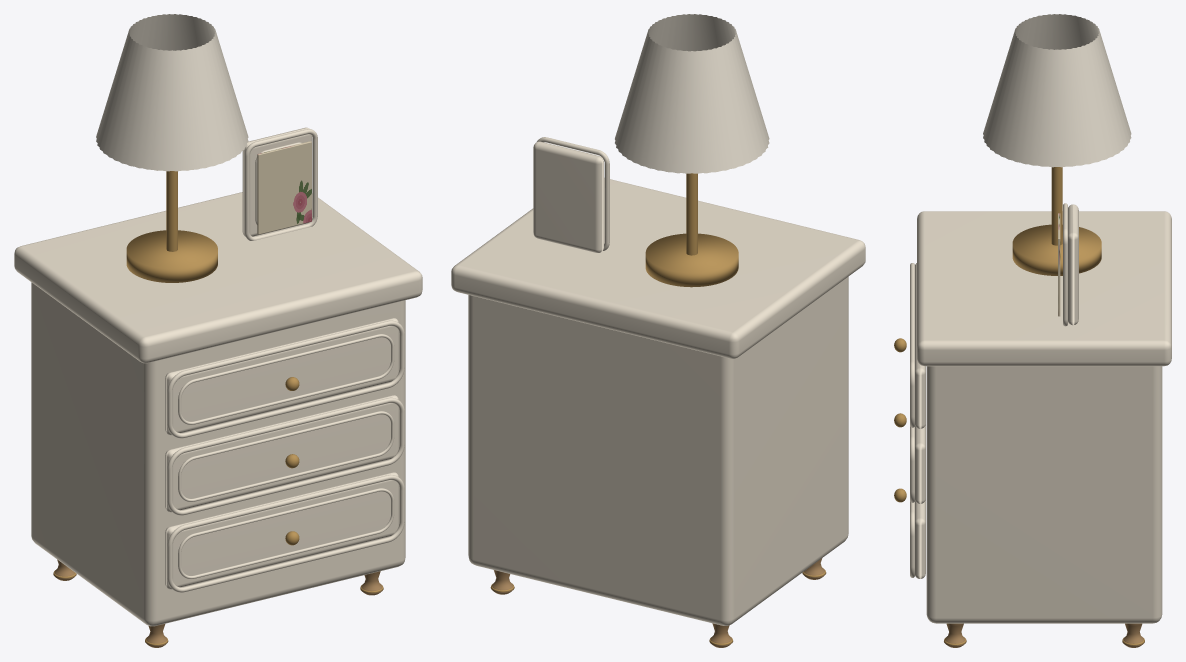
Rendered from bedside.glb.
3 renders of one model, left to right at view 1: azimuth 30°, elevation 25°; view 2: azimuth 150°, elevation 25°; view 3: azimuth 270°, elevation 25°, orthographic. The views are drawn at different scales.
Visible parts, largest first — view 1: bedside__Warm aged ivory lacquer, bedside__Natural cream linen, bedside__Antique brass, bedside__Rose botanical print on linen, bedside__Honey ash exposed edges; view 2: bedside__Warm aged ivory lacquer, bedside__Natural cream linen, bedside__Antique brass, bedside__Honey ash exposed edges; view 3: bedside__Warm aged ivory lacquer, bedside__Natural cream linen, bedside__Antique brass, bedside__Honey ash exposed edges.
Boxes of the visible parts, x1,y1,x2,y2 form: bedside__Warm aged ivory lacquer: (14, 127, 422, 626); bedside__Natural cream linen: (96, 14, 248, 171); bedside__Antique brass: (53, 171, 383, 645); bedside__Rose botanical print on linen: (257, 141, 311, 234); bedside__Honey ash exposed edges: (53, 559, 383, 647); bedside__Warm aged ivory lacquer: (451, 137, 865, 625); bedside__Natural cream linen: (615, 14, 769, 173); bedside__Antique brass: (491, 173, 825, 645); bedside__Honey ash exposed edges: (490, 558, 826, 647); bedside__Warm aged ivory lacquer: (910, 203, 1171, 623); bedside__Natural cream linen: (983, 14, 1131, 167); bedside__Antique brass: (894, 167, 1144, 645); bedside__Honey ash exposed edges: (944, 623, 1144, 647).
Size of the model in its own units: 0.5 by 0.94 by 0.436.
Materials: 5 (1 with a texture image).
